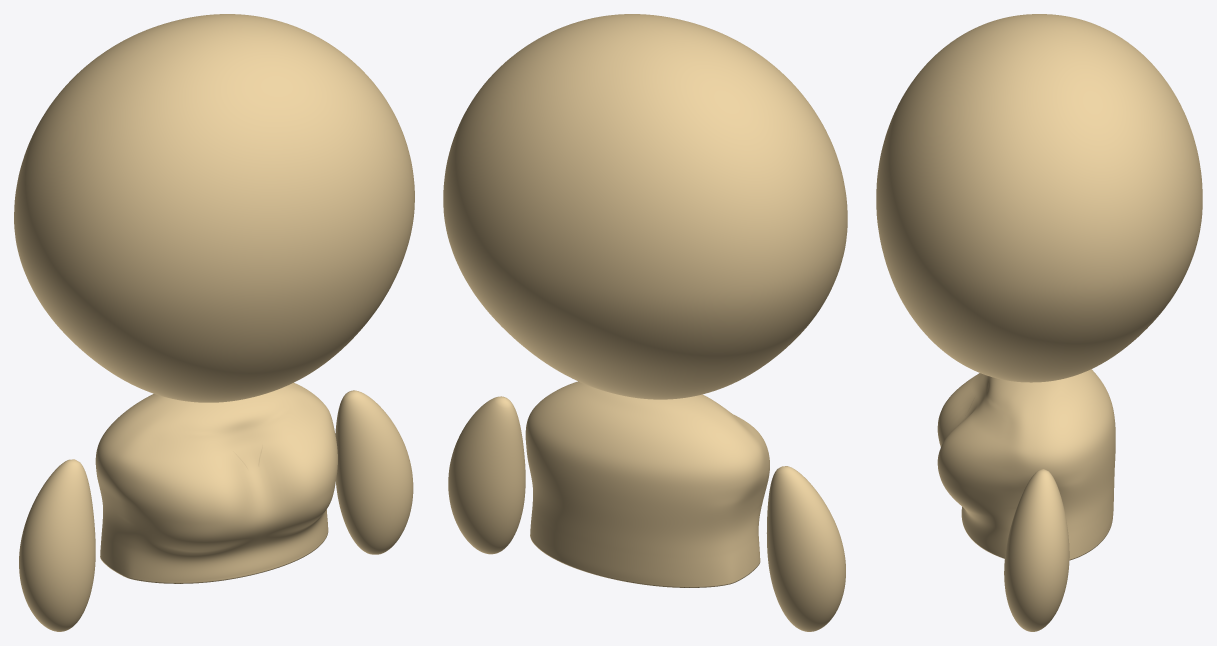
The model's file is Feminine-pants-clothed-base.glb.
The picture shows the model from 3 angles, left to right: view 1: azimuth 30°, elevation 25°; view 2: azimuth 150°, elevation 25°; view 3: azimuth 270°, elevation 25°; orthographic projection. The views are drawn at different scales.
Visible parts, largest first — view 1: Skin / soft oval head, Skin / rounded torso, Skin / swept arm -1, Skin / swept arm 1; view 2: Skin / soft oval head, Skin / rounded torso, Skin / swept arm -1, Skin / swept arm 1; view 3: Skin / soft oval head, Skin / rounded torso, Skin / swept arm 1.
Part boxes in pixels (<box>): Skin / soft oval head: <box>14,14,414,402</box>; Skin / rounded torso: <box>95,382,337,583</box>; Skin / swept arm -1: <box>19,459,95,631</box>; Skin / swept arm 1: <box>335,390,413,554</box>; Skin / soft oval head: <box>443,14,847,399</box>; Skin / rounded torso: <box>525,381,769,587</box>; Skin / swept arm -1: <box>766,466,845,631</box>; Skin / swept arm 1: <box>448,396,525,554</box>; Skin / soft oval head: <box>876,14,1202,382</box>; Skin / rounded torso: <box>937,369,1115,560</box>; Skin / swept arm 1: <box>1004,469,1069,631</box>.
Size of the model in its own units: 1.04 by 1.44 by 0.81.
